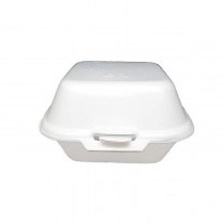foam_box: (33, 51, 200, 169)
